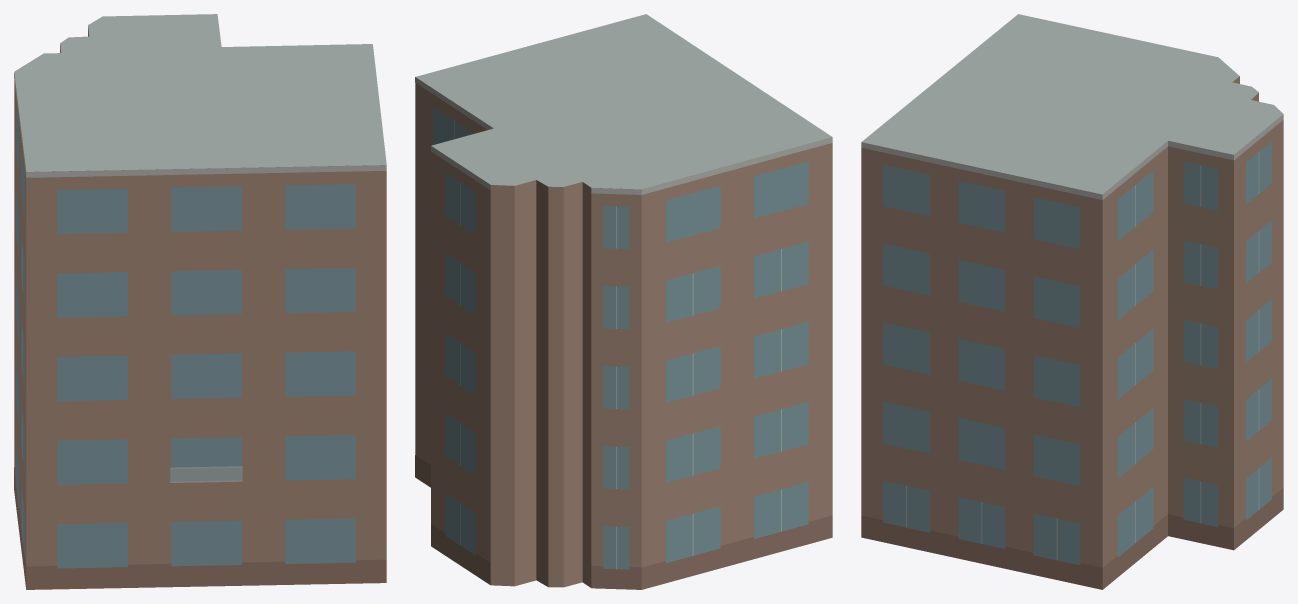
File: survey-upis-32696216.glb
3 views of the same model, side by side, from view 1: azimuth 30°, elevation 25°; view 2: azimuth 150°, elevation 25°; view 3: azimuth 270°, elevation 25° (orthographic). The views are drawn at different scales.
Parts seen in each view (by area): view 1: survey-upis-32696216.tmp; view 2: survey-upis-32696216.tmp; view 3: survey-upis-32696216.tmp.
Part boxes in pixels (left/top/right/bottom): survey-upis-32696216.tmp: left=14, top=14, right=386, bottom=589; survey-upis-32696216.tmp: left=415, top=14, right=832, bottom=589; survey-upis-32696216.tmp: left=861, top=14, right=1283, bottom=589.
Bounding box in the file's own units: 17.1 × 17.45 × 16.91.
